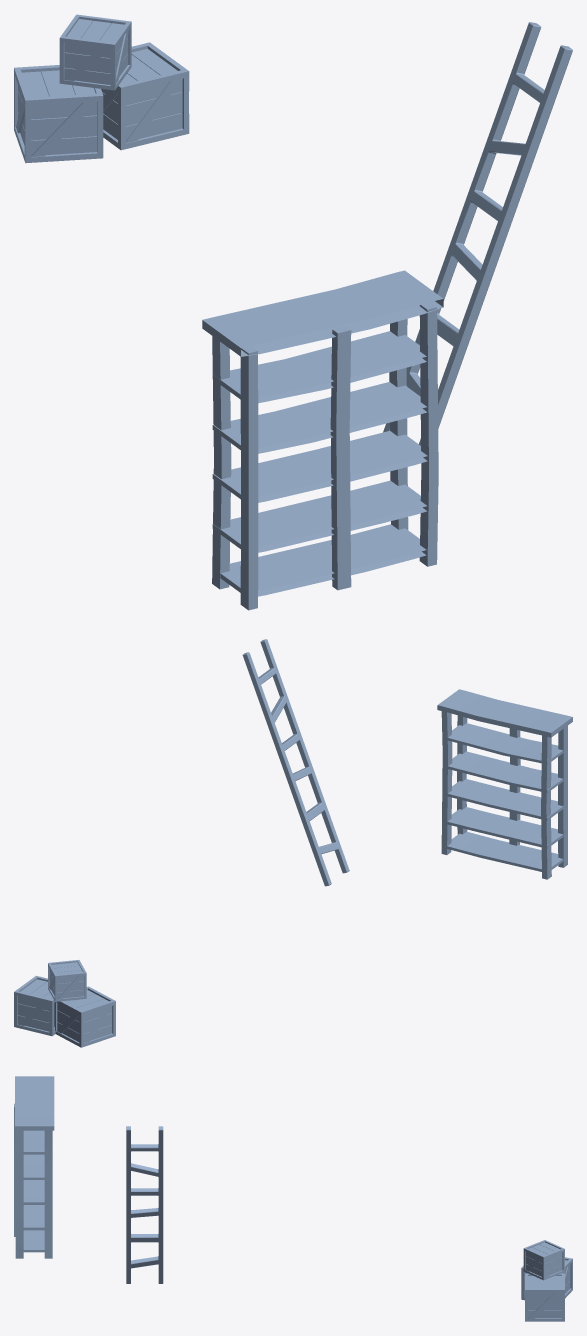
File: SM_storage_area.fbx
The picture shows the model from 3 angles, top to bottom: view 1: azimuth 30°, elevation 25°; view 2: azimuth 150°, elevation 25°; view 3: azimuth 270°, elevation 25°; orthographic projection. The views are drawn at different scales.
Parts seen in each view (by area): view 1: polySurface704, polySurface721, Ladder:polySurface1; view 2: polySurface704, polySurface721, Ladder:polySurface1; view 3: polySurface704, polySurface721, Ladder:polySurface1.
Part boxes in pixels (left/top/right/bottom): polySurface704: left=202, top=270, right=443, bottom=610; polySurface721: left=14, top=14, right=189, bottom=163; Ladder:polySurface1: left=383, top=22, right=572, bottom=445; polySurface704: left=437, top=689, right=572, bottom=879; polySurface721: left=14, top=960, right=115, bottom=1047; Ladder:polySurface1: left=242, top=639, right=349, bottom=886; polySurface704: left=14, top=1076, right=54, bottom=1258; polySurface721: left=521, top=1240, right=572, bottom=1321; Ladder:polySurface1: left=126, top=1126, right=163, bottom=1283.
Size of the model in its own units: 530 by 425 by 1121.
